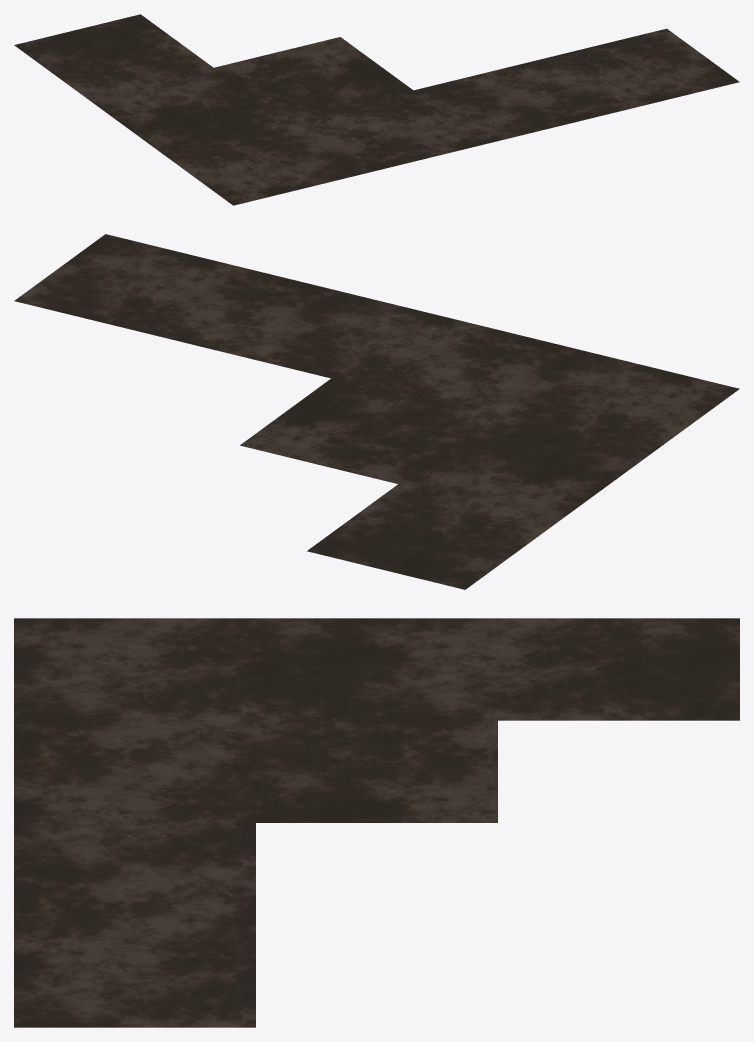
Rendered from floor_3_-12.glb.
The picture shows the model from 3 angles, top to bottom: view 1: azimuth 30°, elevation 25°; view 2: azimuth 150°, elevation 25°; view 3: azimuth 270°, elevation 25°; orthographic projection. The views are drawn at different scales.
Parts seen in each view (by area): view 1: floor_3_-12; view 2: floor_3_-12; view 3: floor_3_-12.
Boxes of the visible parts, box(x1,y1,x2,y2) form: floor_3_-12: box(14, 14, 739, 205); floor_3_-12: box(14, 234, 739, 589); floor_3_-12: box(14, 618, 739, 1027).
Bounding box in the file's own units: 16 × 0 × 12.
1 material, 1 textured.
